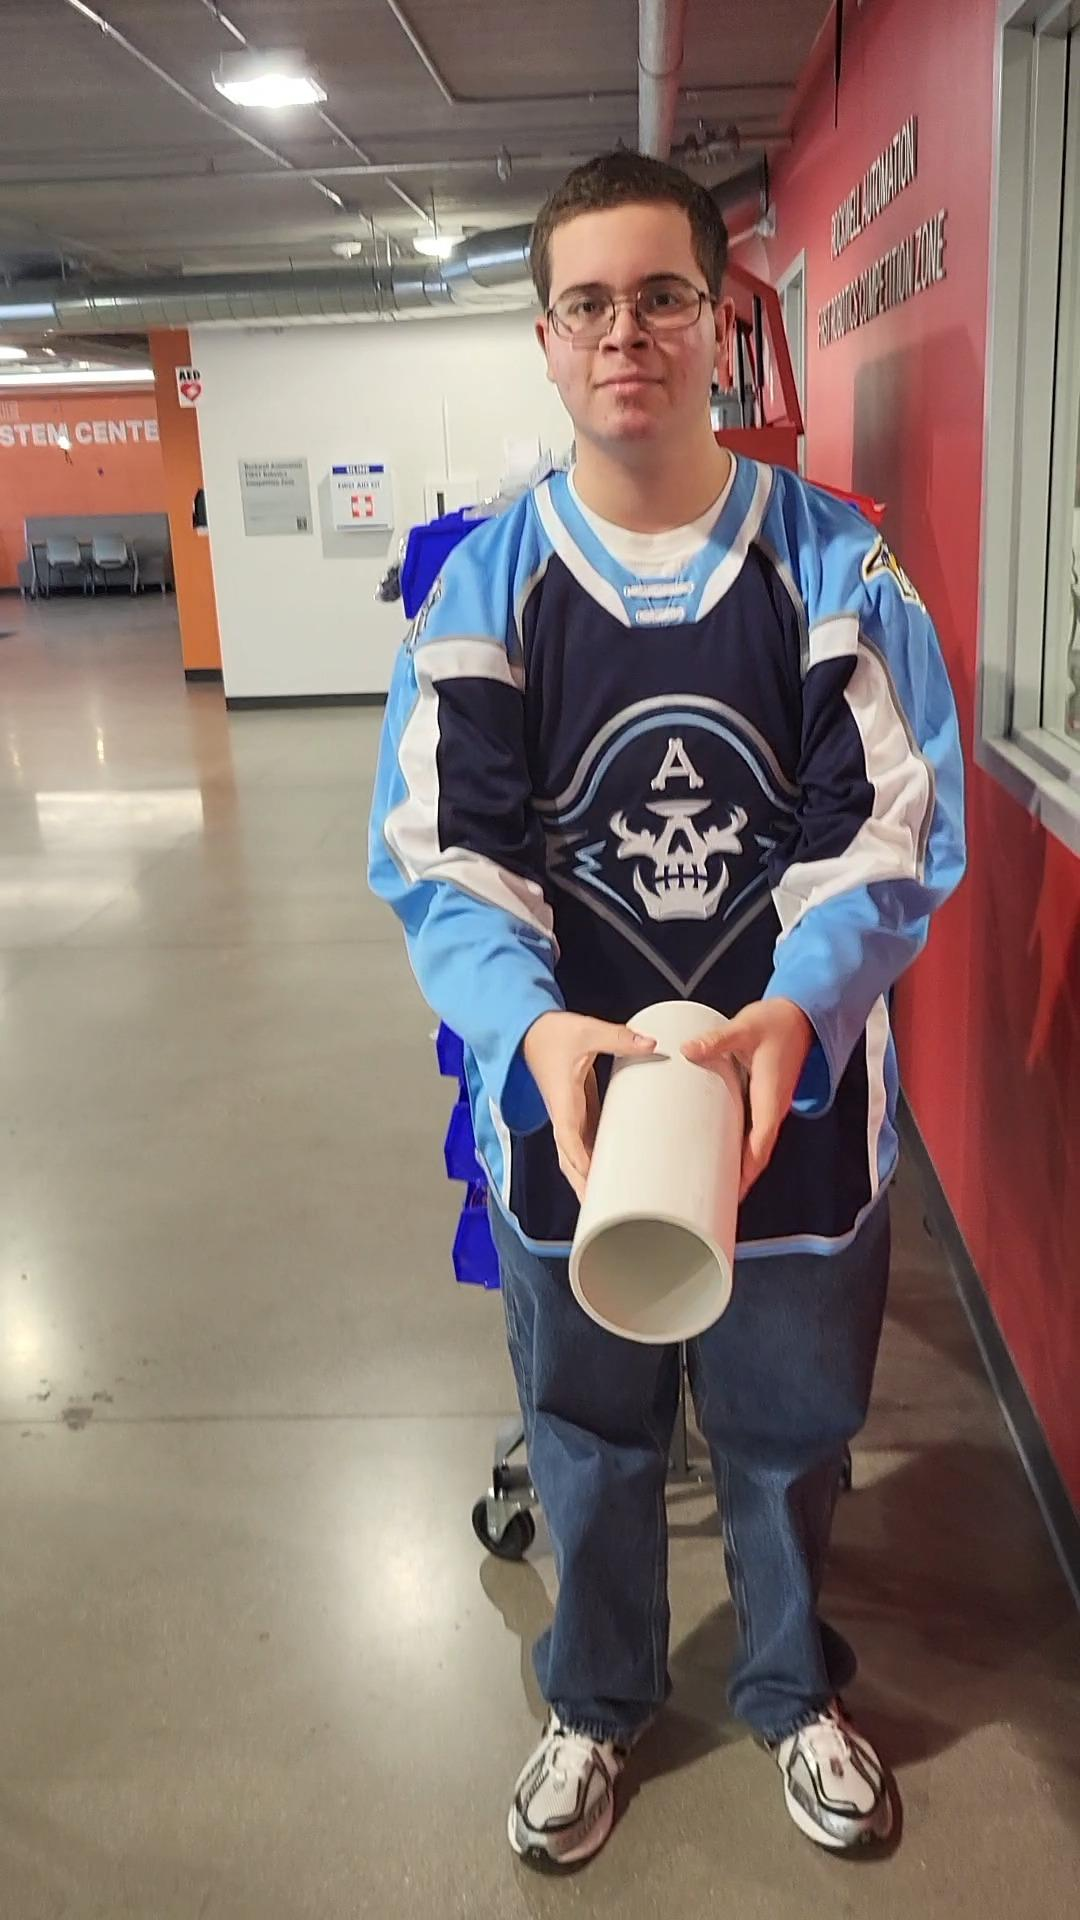coral: (567, 994, 744, 1346)
